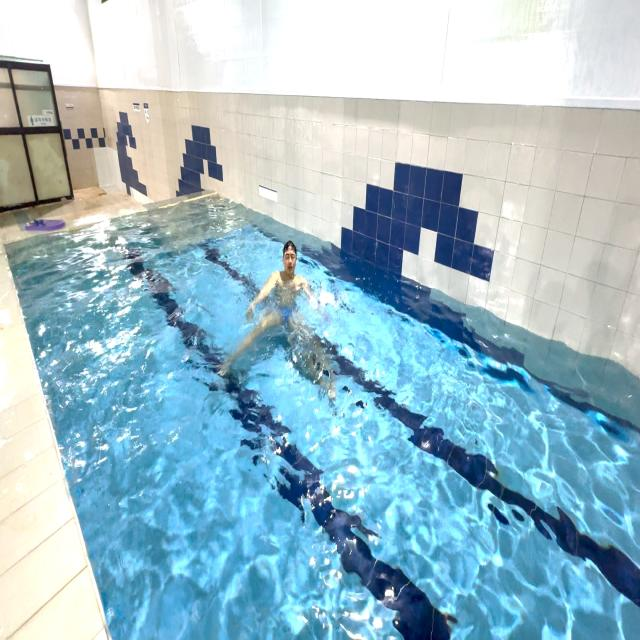Swimming: (216, 222, 350, 402)
